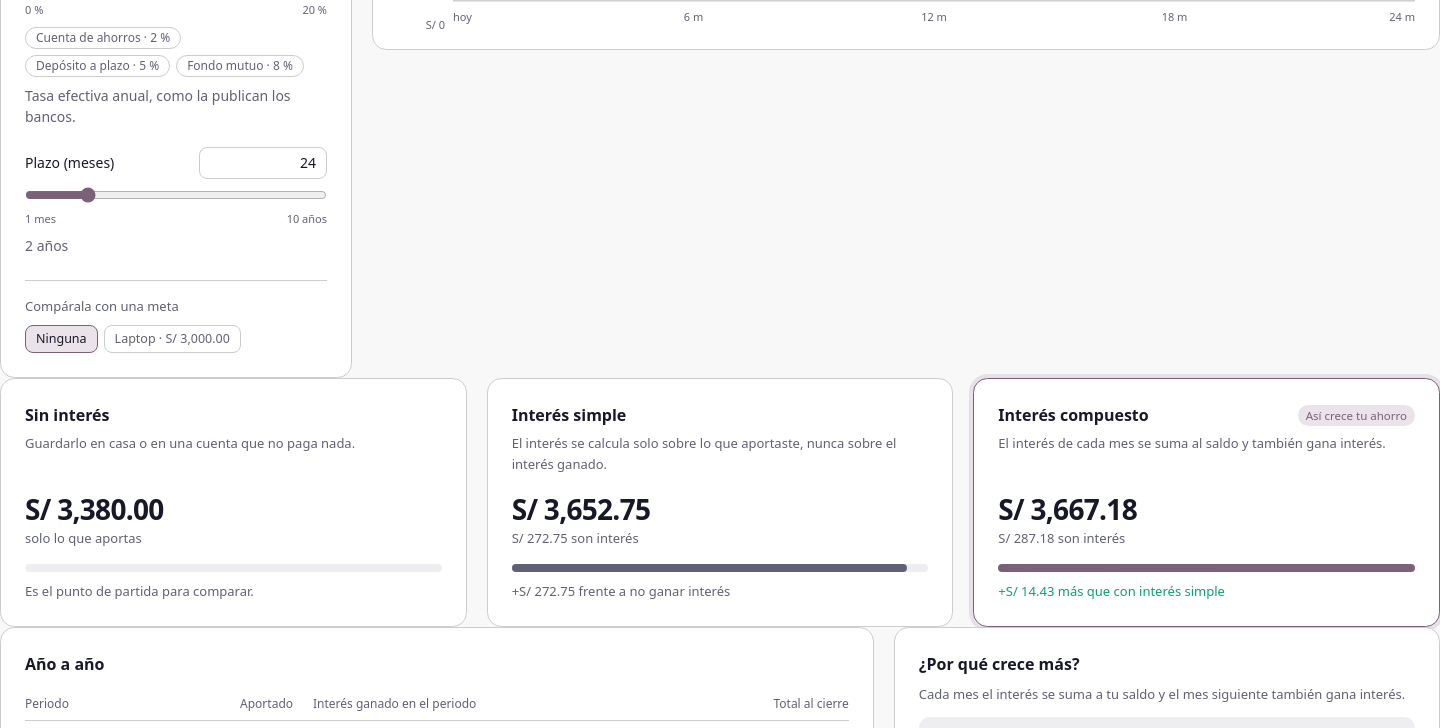
Scenario: ProjectionPage › comparada con una meta dice si se llega a tiempo y la propone al guardar
The image size is (1440, 728).
(page scrolled)
Click the button "Laptop · S/ 3,000.00" at (172, 339), box [104, 324, 241, 353]
(page scrolled)
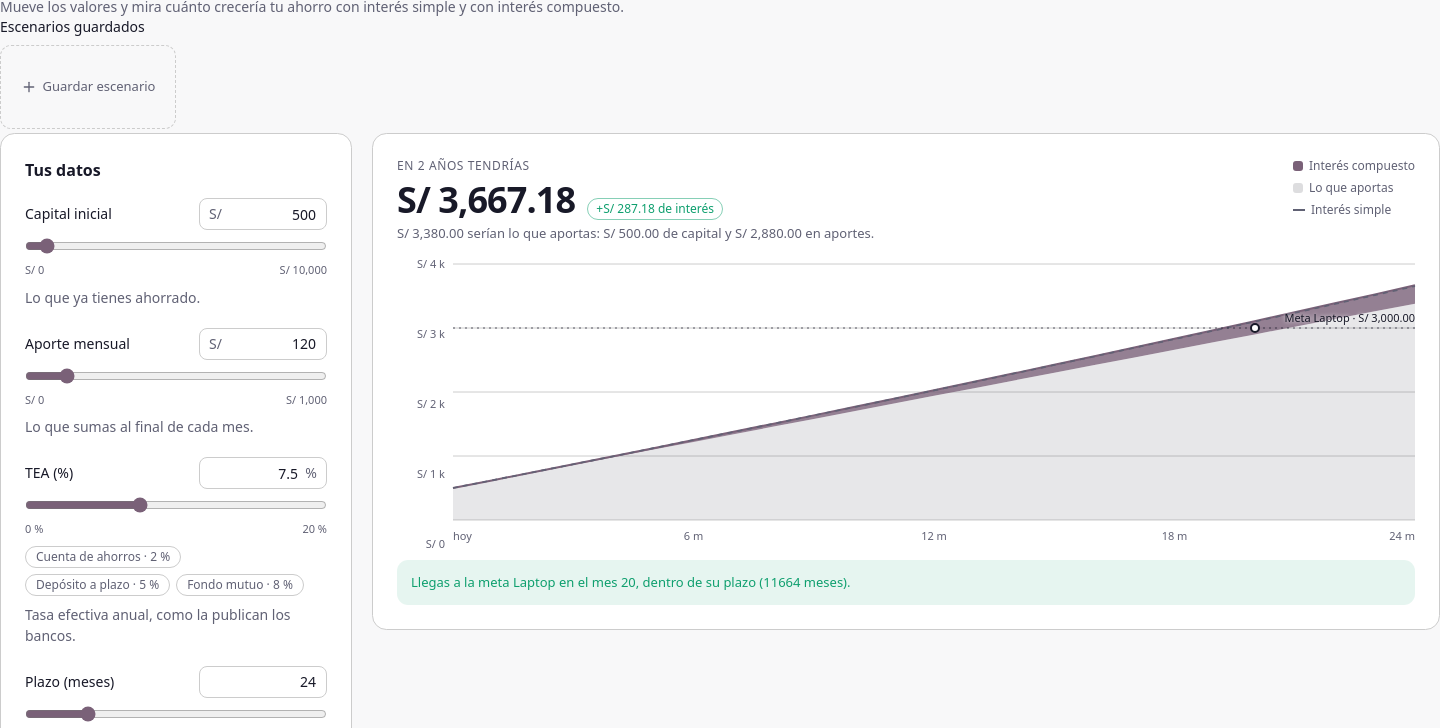
Click the button "Guardar escenario" at (88, 87), box [0, 45, 176, 129]
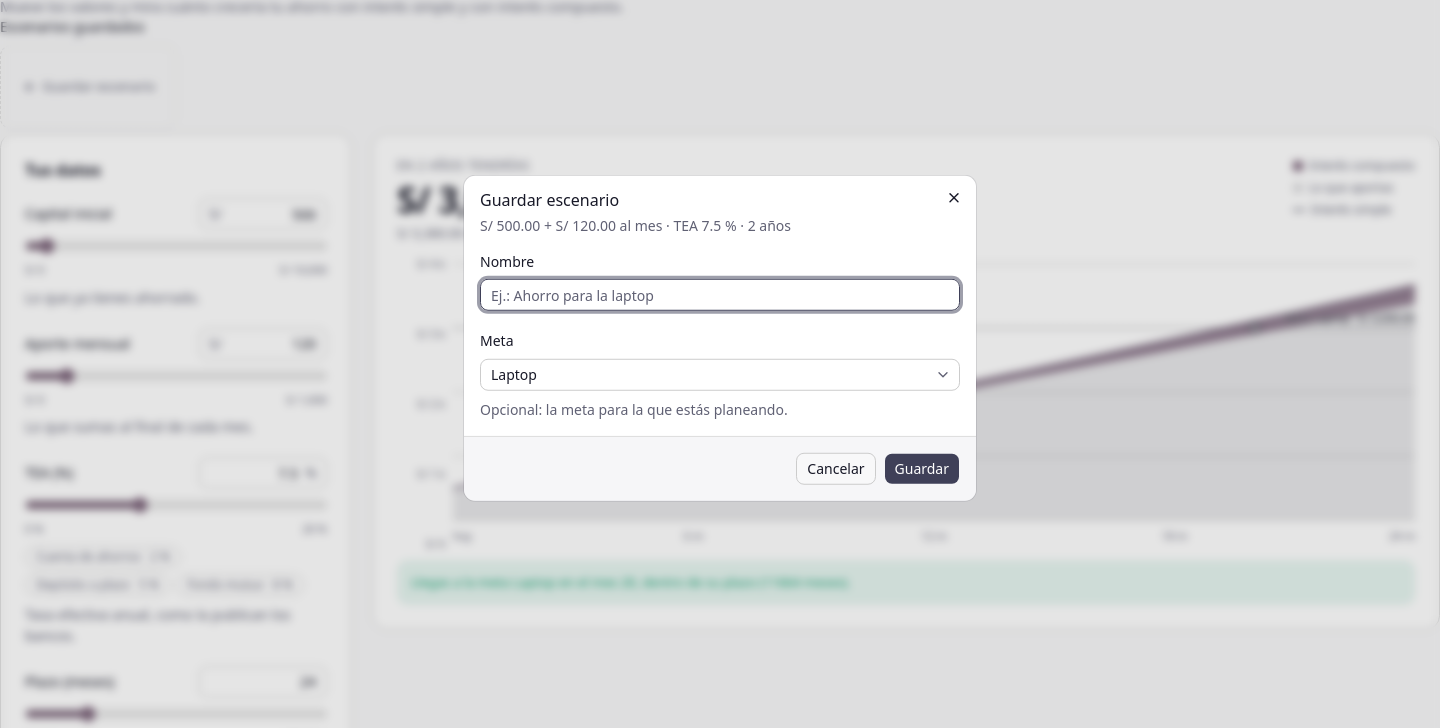
Expected: the dropdown named "Meta" reads "Laptop", [480, 358, 960, 390]
